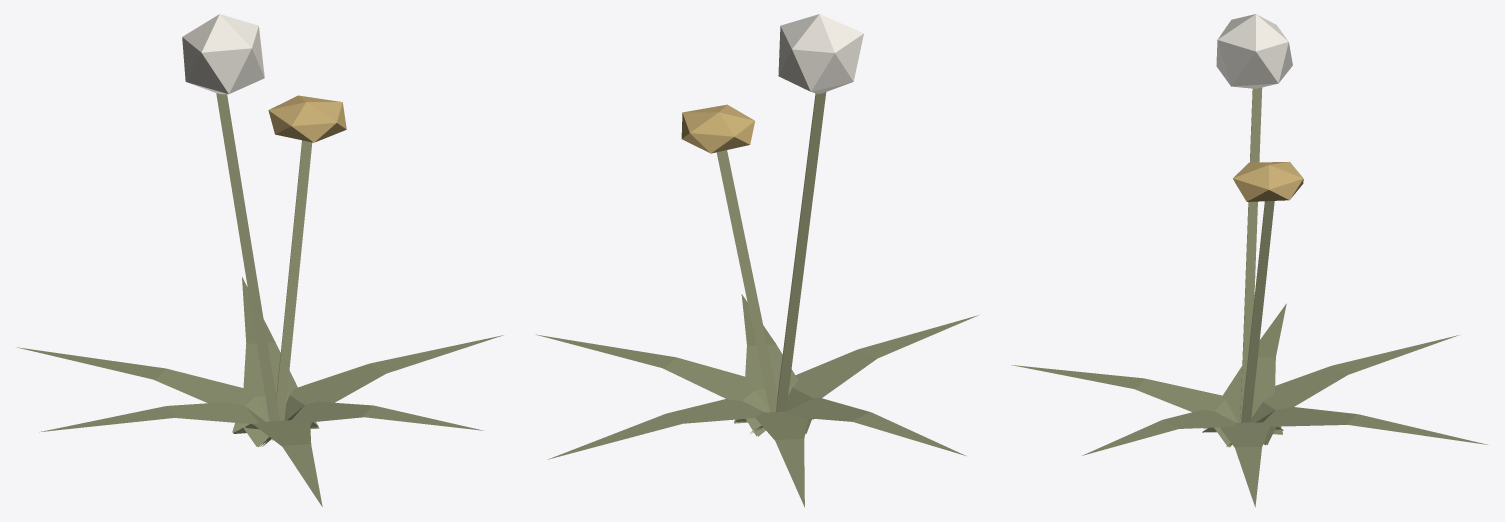
Rendered from dandelion.fbx.
The picture shows the model from 3 angles, left to right: view 1: azimuth 30°, elevation 25°; view 2: azimuth 150°, elevation 25°; view 3: azimuth 270°, elevation 25°; orthographic projection. The views are drawn at different scales.
Parts seen in each view (by area): view 1: dandelion; view 2: dandelion; view 3: dandelion.
Part boxes in pixels (box(x1,y1,x2,y2)): dandelion: box(17, 14, 503, 506); dandelion: box(536, 14, 978, 507); dandelion: box(1011, 14, 1487, 507).
Bounding box in the file's own units: 0.2668 × 0.2645 × 0.244.
